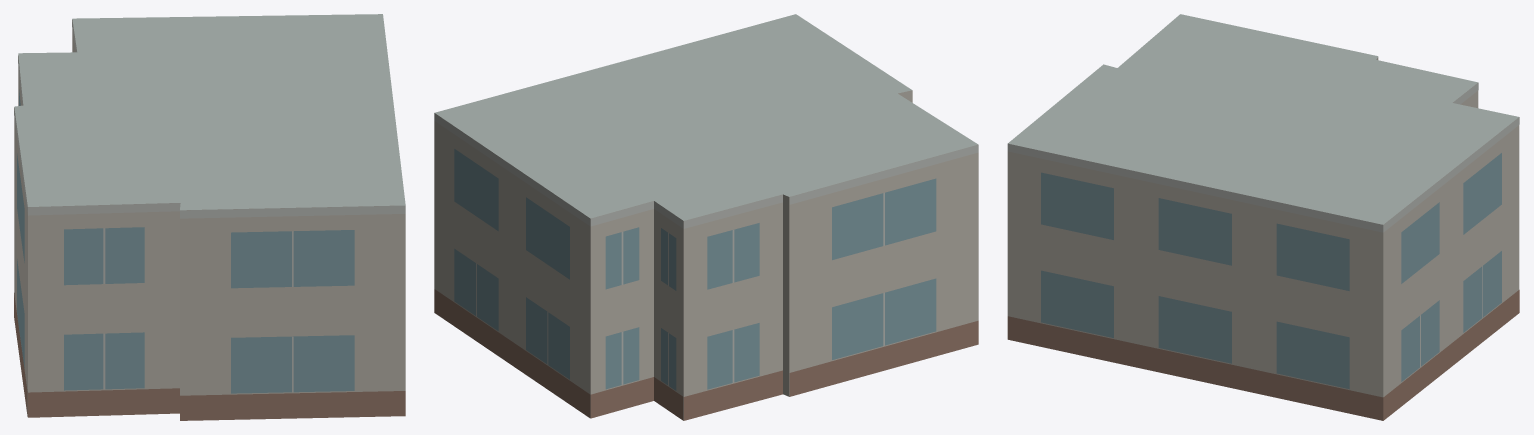
Rendered from survey-upis-32823564.glb.
The picture shows the model from 3 angles, left to right: view 1: azimuth 30°, elevation 25°; view 2: azimuth 150°, elevation 25°; view 3: azimuth 270°, elevation 25°; orthographic projection. The views are drawn at different scales.
Visible parts, largest first — view 1: survey-upis-32823564.tmp; view 2: survey-upis-32823564.tmp; view 3: survey-upis-32823564.tmp.
Part boxes in pixels (bbox=[...]): survey-upis-32823564.tmp: bbox=[14, 14, 405, 420]; survey-upis-32823564.tmp: bbox=[434, 14, 978, 420]; survey-upis-32823564.tmp: bbox=[1007, 14, 1519, 420].
Bounding box in the file's own units: 14.08 × 6.1 × 14.44.
